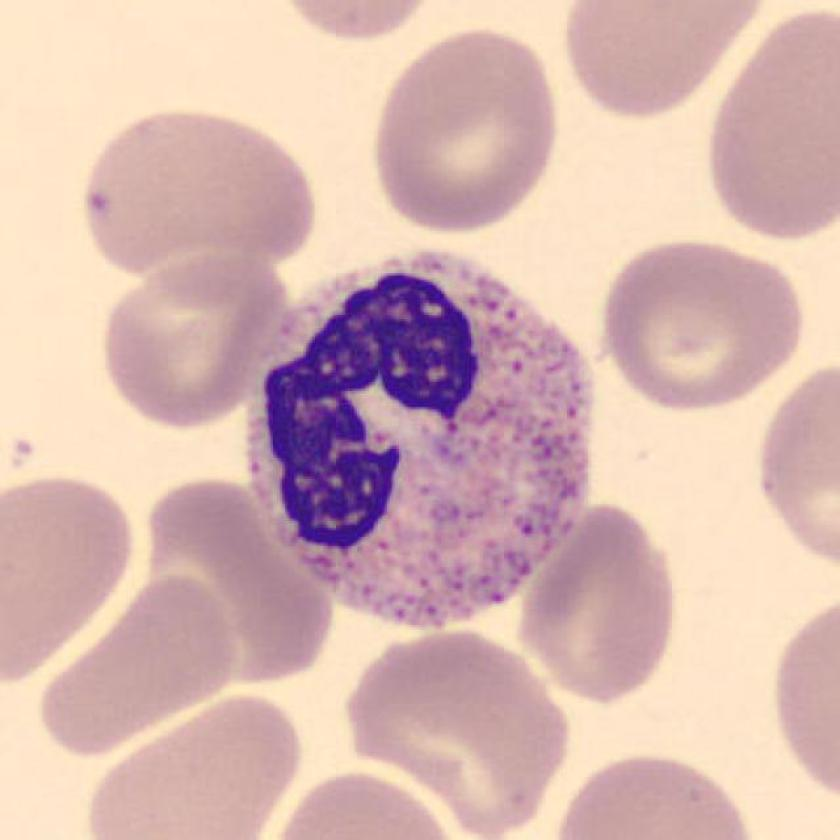neutrophil: (248, 252, 594, 625)
